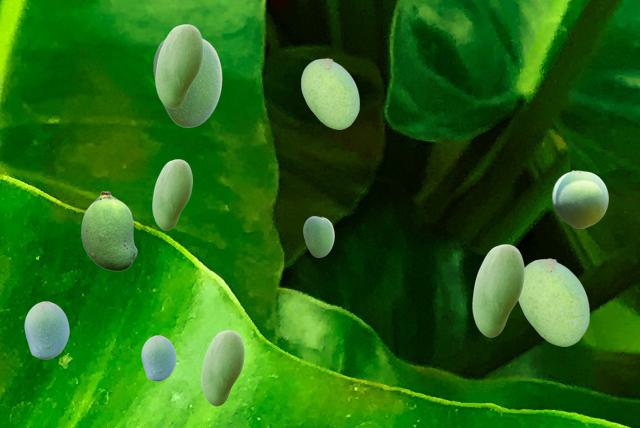green_mango: (518, 258, 588, 345), (153, 38, 221, 126), (472, 244, 523, 336), (81, 191, 136, 270), (301, 58, 358, 128), (155, 24, 202, 107), (201, 330, 243, 405), (552, 170, 607, 227), (152, 159, 191, 229), (24, 301, 68, 358), (141, 335, 175, 380), (303, 216, 333, 256)
